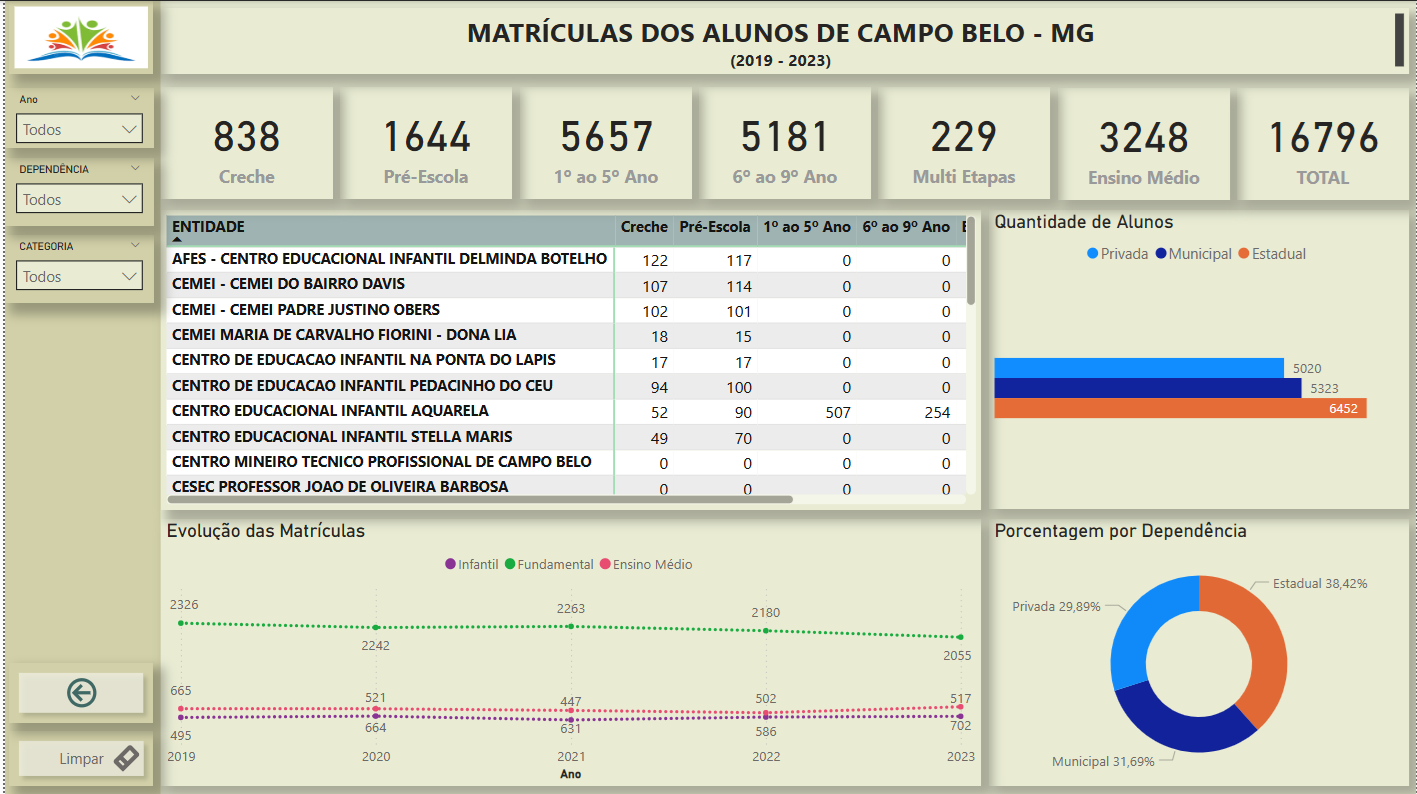

This screenshot's page, from the dashboard's own definition file:
{"tool":"powerbi","page":{"name":"INICIAR","canvas":[1280,720],"ordinal":1},"visuals":[{"type":"lineChart","title":"Evolução das Matrículas ","fields":{"Category":["dCalendario AUTO.Data.Variation.Hierarquia de datas.Ano"],"Y":["Medidas.Total_Infantil","Medidas.Total_Fundamental","Medidas.Total_Medio"]},"box":[141.5,469.7,743.6,242.1],"z":0},{"type":"pivotTable","fields":{"Values":["Medidas.Total_CRE","Medidas.Total_PRE","Medidas.Qtd_Anos_Iniciais","Medidas.Qtd_Anos_Finais","Medidas.Total_Medio"],"Rows":["Dim_Escola.ENTIDADE"]},"box":[141.5,189.5,743.6,272],"z":1000},{"type":"shape","box":[0,0,141.5,720],"z":2000},{"type":"card","fields":{"Values":["Medidas.Total_Geral"]},"box":[1117.2,78.9,156,102.5],"z":3000},{"type":"card","fields":{"Values":["Medidas.Total_CRE"]},"box":[141.5,78,156,102.5],"z":4000},{"type":"card","fields":{"Values":["Medidas.Qtd_Anos_Iniciais"]},"box":[466.7,78,156,102.5],"z":5000},{"type":"card","fields":{"Values":["Medidas.Total_PRE"]},"box":[304.1,78,156,102.5],"z":6000},{"type":"donutChart","title":"Porcentagem por Dependência","fields":{"Category":["Dim_Escola.DEPENDÊNCIA"],"Y":["Medidas.%_Alunos_Por_Tipo"]},"box":[892.3,469.7,380.9,242.1],"z":7000},{"type":"card","fields":{"Values":["Medidas.Total_Medio"]},"box":[954.6,78.9,156,102.5],"z":8000},{"type":"slicer","fields":{"Values":["Dim_Escola.DEPENDÊNCIA"]},"box":[0,142.4,135.1,61.7],"z":9000},{"type":"slicer","fields":{"Values":["Dim_Escola.CATEGORIA"]},"box":[0,212.2,135.1,61.7],"z":10000},{"type":"textbox","box":[141.5,6.3,1131.7,59.8],"z":11000},{"type":"clusteredBarChart","title":"Quantidade de Alunos","fields":{"Y":["Medidas.Total_Geral_Privada","Medidas.Total_Geral_Municipal","Medidas.Total_Geral_Estadual"]},"box":[892.3,189.5,380.9,271.1],"z":12000},{"type":"actionButton","box":[3.6,662,131.5,49.9],"z":13000},{"type":"slicer","fields":{"Values":["dCalendario AUTO.Data.Variation.Hierarquia de datas.Ano"]},"box":[0,78.9,135.1,54.4],"z":14000},{"type":"card","fields":{"Values":["Medidas.Qtd_Anos_Finais"]},"box":[629.3,78,156,102.5],"z":15000},{"type":"card","fields":{"Values":["Medidas.Total_MULT_ETA"]},"box":[791.9,78,156,102.5],"z":16000},{"type":"actionButton","box":[3.6,600.3,131.5,54.4],"z":17000},{"type":"image","box":[3.6,0,131.5,66.2],"z":18000}]}

Visuals, with their boxes on the page's 1280x720 design canvas (x1, y1, x2, y2). These are canvas units, not pixel positions in the 1417x794 screenshot, which may show the page scaled, cropped or inside an application window:
"Evolução das Matrículas " lineChart: {"x1": 142, "y1": 470, "x2": 885, "y2": 712}
pivotTable - Medidas.Total_CRE x Medidas.Total_PRE: {"x1": 142, "y1": 190, "x2": 885, "y2": 462}
shape: {"x1": 0, "y1": 0, "x2": 142, "y2": 720}
card - Medidas.Total_Geral: {"x1": 1117, "y1": 79, "x2": 1273, "y2": 181}
card - Medidas.Total_CRE: {"x1": 142, "y1": 78, "x2": 298, "y2": 180}
card - Medidas.Qtd_Anos_Iniciais: {"x1": 467, "y1": 78, "x2": 623, "y2": 180}
card - Medidas.Total_PRE: {"x1": 304, "y1": 78, "x2": 460, "y2": 180}
"Porcentagem por Dependência" donutChart: {"x1": 892, "y1": 470, "x2": 1273, "y2": 712}
card - Medidas.Total_Medio: {"x1": 955, "y1": 79, "x2": 1111, "y2": 181}
slicer - Dim_Escola.DEPENDÊNCIA: {"x1": 0, "y1": 142, "x2": 135, "y2": 204}
slicer - Dim_Escola.CATEGORIA: {"x1": 0, "y1": 212, "x2": 135, "y2": 274}
textbox: {"x1": 142, "y1": 6, "x2": 1273, "y2": 66}
"Quantidade de Alunos" clusteredBarChart: {"x1": 892, "y1": 190, "x2": 1273, "y2": 461}
actionButton: {"x1": 4, "y1": 662, "x2": 135, "y2": 712}
slicer - dCalendario AUTO.Data.Variation.Hierarquia de datas.Ano: {"x1": 0, "y1": 79, "x2": 135, "y2": 133}
card - Medidas.Qtd_Anos_Finais: {"x1": 629, "y1": 78, "x2": 785, "y2": 180}
card - Medidas.Total_MULT_ETA: {"x1": 792, "y1": 78, "x2": 948, "y2": 180}
actionButton: {"x1": 4, "y1": 600, "x2": 135, "y2": 655}
image: {"x1": 4, "y1": 0, "x2": 135, "y2": 66}
